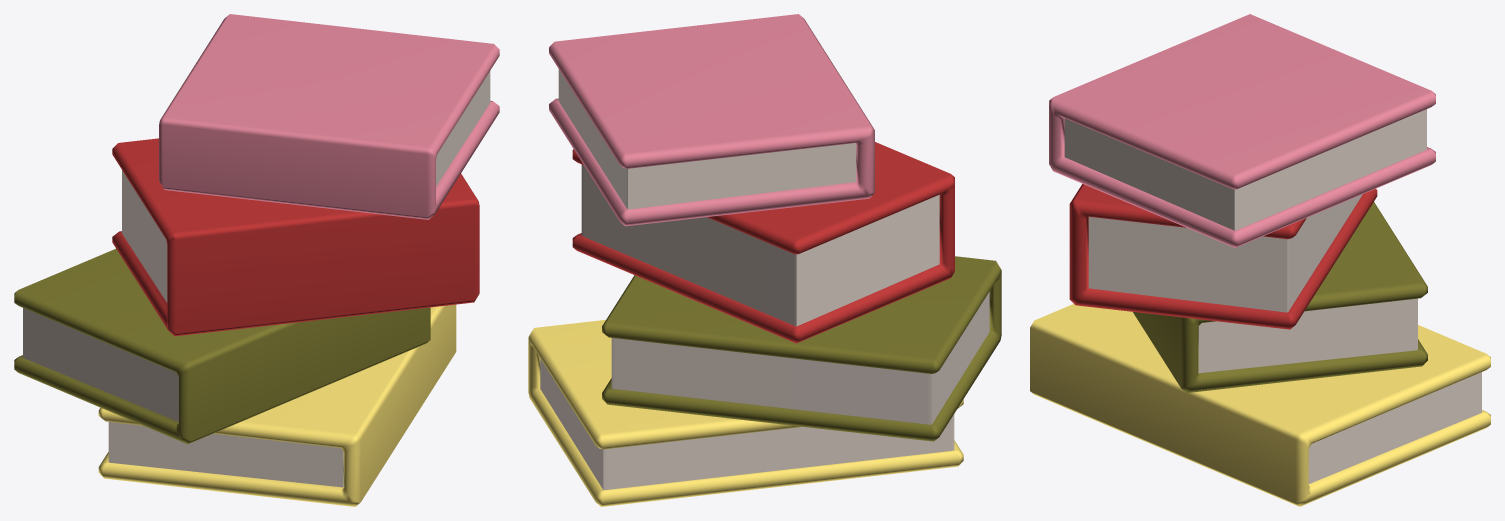
File: Books_19.glb
3 views of the same model, side by side, from view 1: azimuth 30°, elevation 25°; view 2: azimuth 150°, elevation 25°; view 3: azimuth 270°, elevation 25° (orthographic).
Parts seen in each view (by area): view 1: Books_19; view 2: Books_19; view 3: Books_19.
Boxes of the visible parts, bbox=[...] form: Books_19: bbox=[14, 14, 499, 506]; Books_19: bbox=[528, 14, 1001, 506]; Books_19: bbox=[1030, 14, 1490, 506].
Size of the model in its own units: 0.4212 by 0.3073 by 0.379.
1 material, 1 textured.
